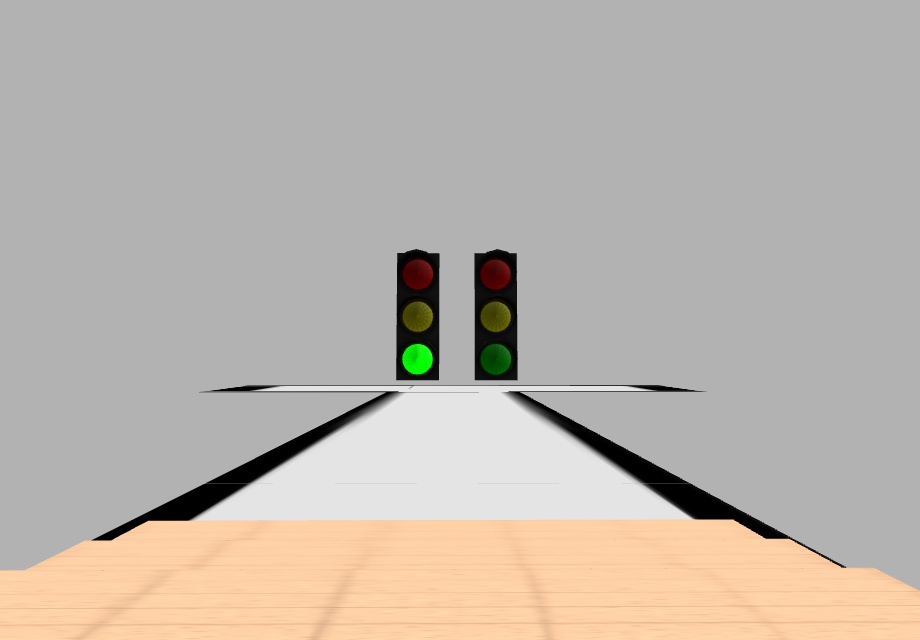green_off: (477, 340, 514, 381)
green_on: (399, 338, 437, 377)
